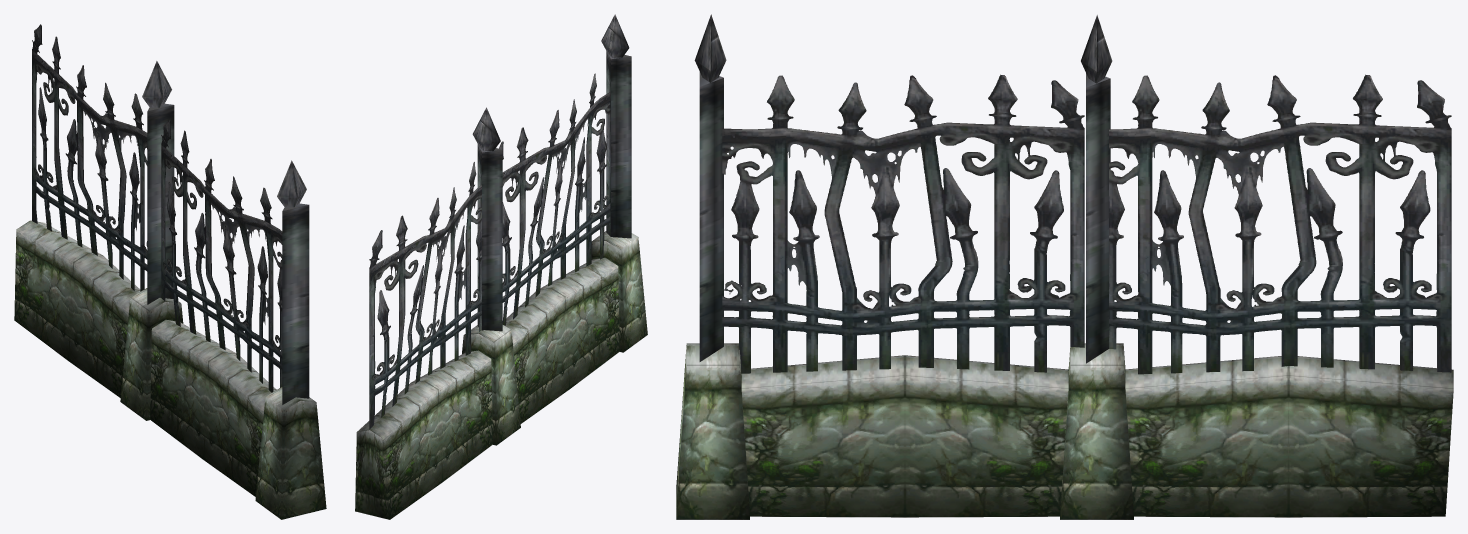
File: undeadstonewroughtironfence.obj
3 renders of one model, left to right at view 1: azimuth 30°, elevation 25°; view 2: azimuth 150°, elevation 25°; view 3: azimuth 270°, elevation 25°, orthographic. The views are drawn at different scales.
Visible parts, largest first — view 1: UNDEADSTONEWROUGHTIRONFENCE2, UNDEADSTONEWROUGHTIRONFENCE1, UNDEADSTONEWROUGHTIRONFENCE0; view 2: UNDEADSTONEWROUGHTIRONFENCE2, UNDEADSTONEWROUGHTIRONFENCE1, UNDEADSTONEWROUGHTIRONFENCE0; view 3: UNDEADSTONEWROUGHTIRONFENCE2, UNDEADSTONEWROUGHTIRONFENCE1, UNDEADSTONEWROUGHTIRONFENCE0.
Part boxes in pixels (x1,y1,x2,y2): UNDEADSTONEWROUGHTIRONFENCE2: (32, 24, 309, 404); UNDEADSTONEWROUGHTIRONFENCE1: (14, 220, 276, 496); UNDEADSTONEWROUGHTIRONFENCE0: (120, 288, 326, 519); UNDEADSTONEWROUGHTIRONFENCE2: (369, 14, 631, 429); UNDEADSTONEWROUGHTIRONFENCE1: (355, 257, 619, 519); UNDEADSTONEWROUGHTIRONFENCE0: (462, 231, 647, 445); UNDEADSTONEWROUGHTIRONFENCE2: (694, 14, 1451, 374); UNDEADSTONEWROUGHTIRONFENCE1: (741, 355, 1453, 517); UNDEADSTONEWROUGHTIRONFENCE0: (676, 343, 1133, 519).
Bounding box in the file's own units: 0.5573 × 4.08 × 5.86.
Materials: 3 (3 with a texture image).
